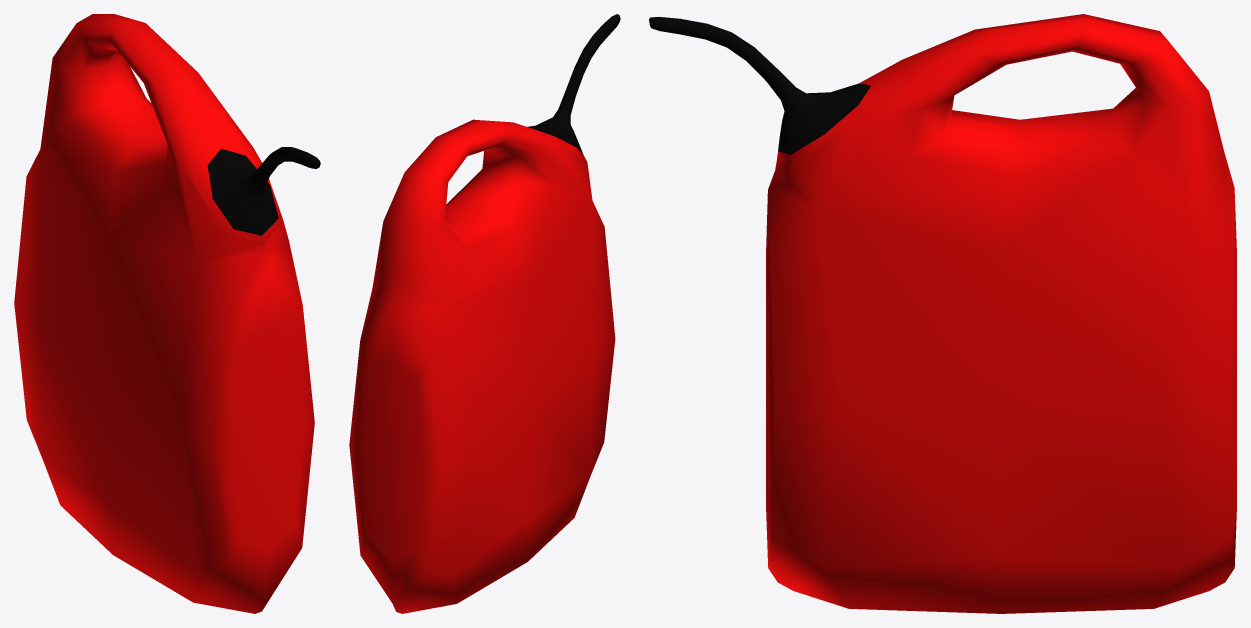
The model's file is gas tank.fbx.
3 views of the same model, side by side, from view 1: azimuth 30°, elevation 25°; view 2: azimuth 150°, elevation 25°; view 3: azimuth 270°, elevation 25° (orthographic). The views are drawn at different scales.
Visible parts, largest first — view 1: Cube; view 2: Cube; view 3: Cube.
Boxes of the visible parts, bbox=[...] form: Cube: bbox=[14, 14, 320, 613]; Cube: bbox=[349, 14, 620, 613]; Cube: bbox=[649, 14, 1236, 613].
Bounding box in the file's own units: 64.1 × 270 × 250.
